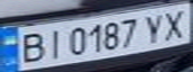0: (66, 24, 87, 56)
1: (84, 20, 106, 53)
7: (118, 16, 142, 48)
8: (103, 18, 124, 52)
B: (12, 29, 51, 64)
I: (39, 27, 69, 60)
X: (157, 4, 193, 42)
Y: (139, 10, 172, 44)
